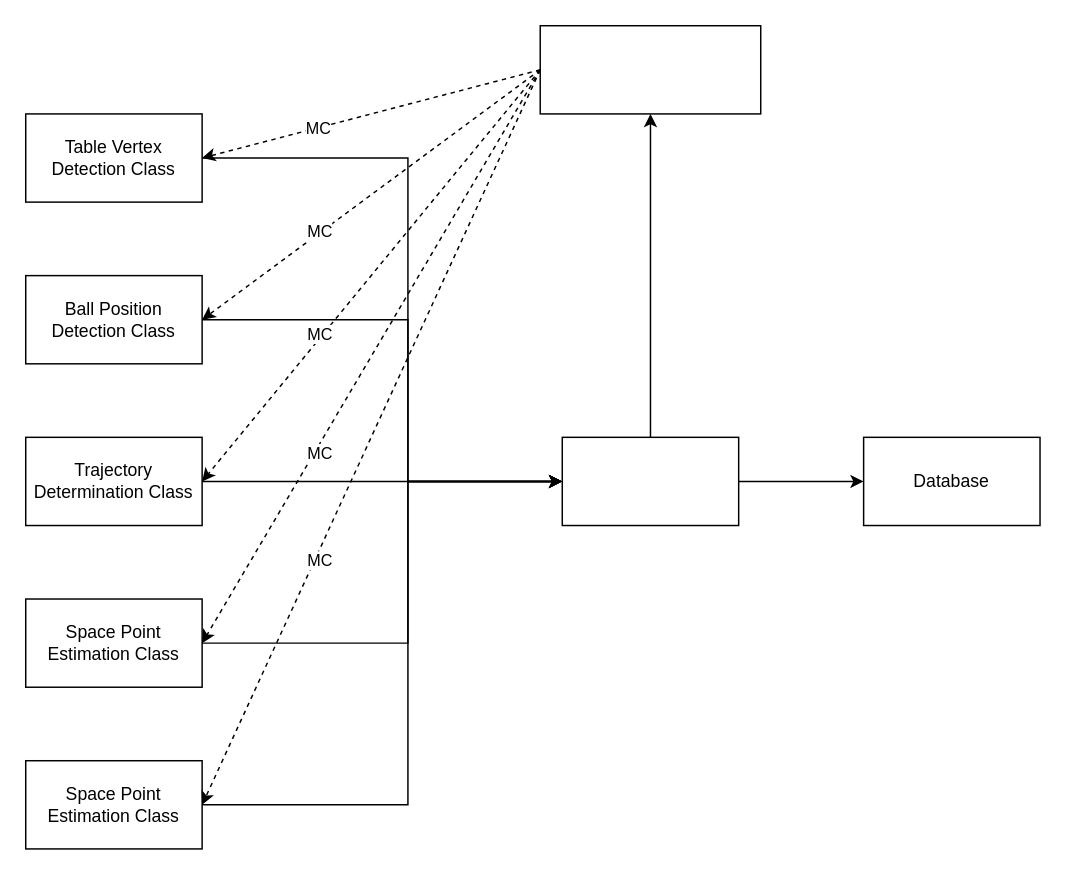
Image size: 1066x875. Some labels were removed from this diagram. The shapes that lost their labels are listed below. From the top down, each one's centre as x and y in pixels, then its label:
At pixel 650 69: "Communication Interface / MQTT Server".
At pixel 650 481: "Control Unit / Server".
